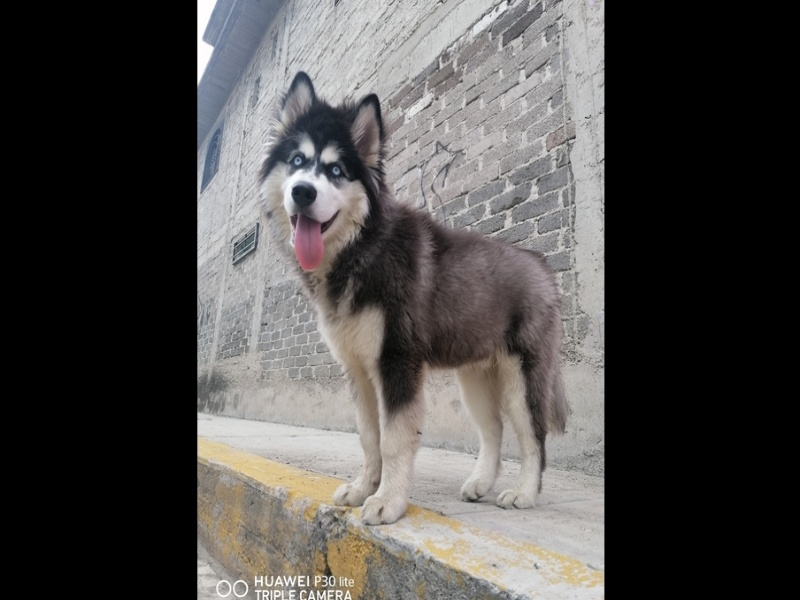dog: (252, 69, 571, 525)
